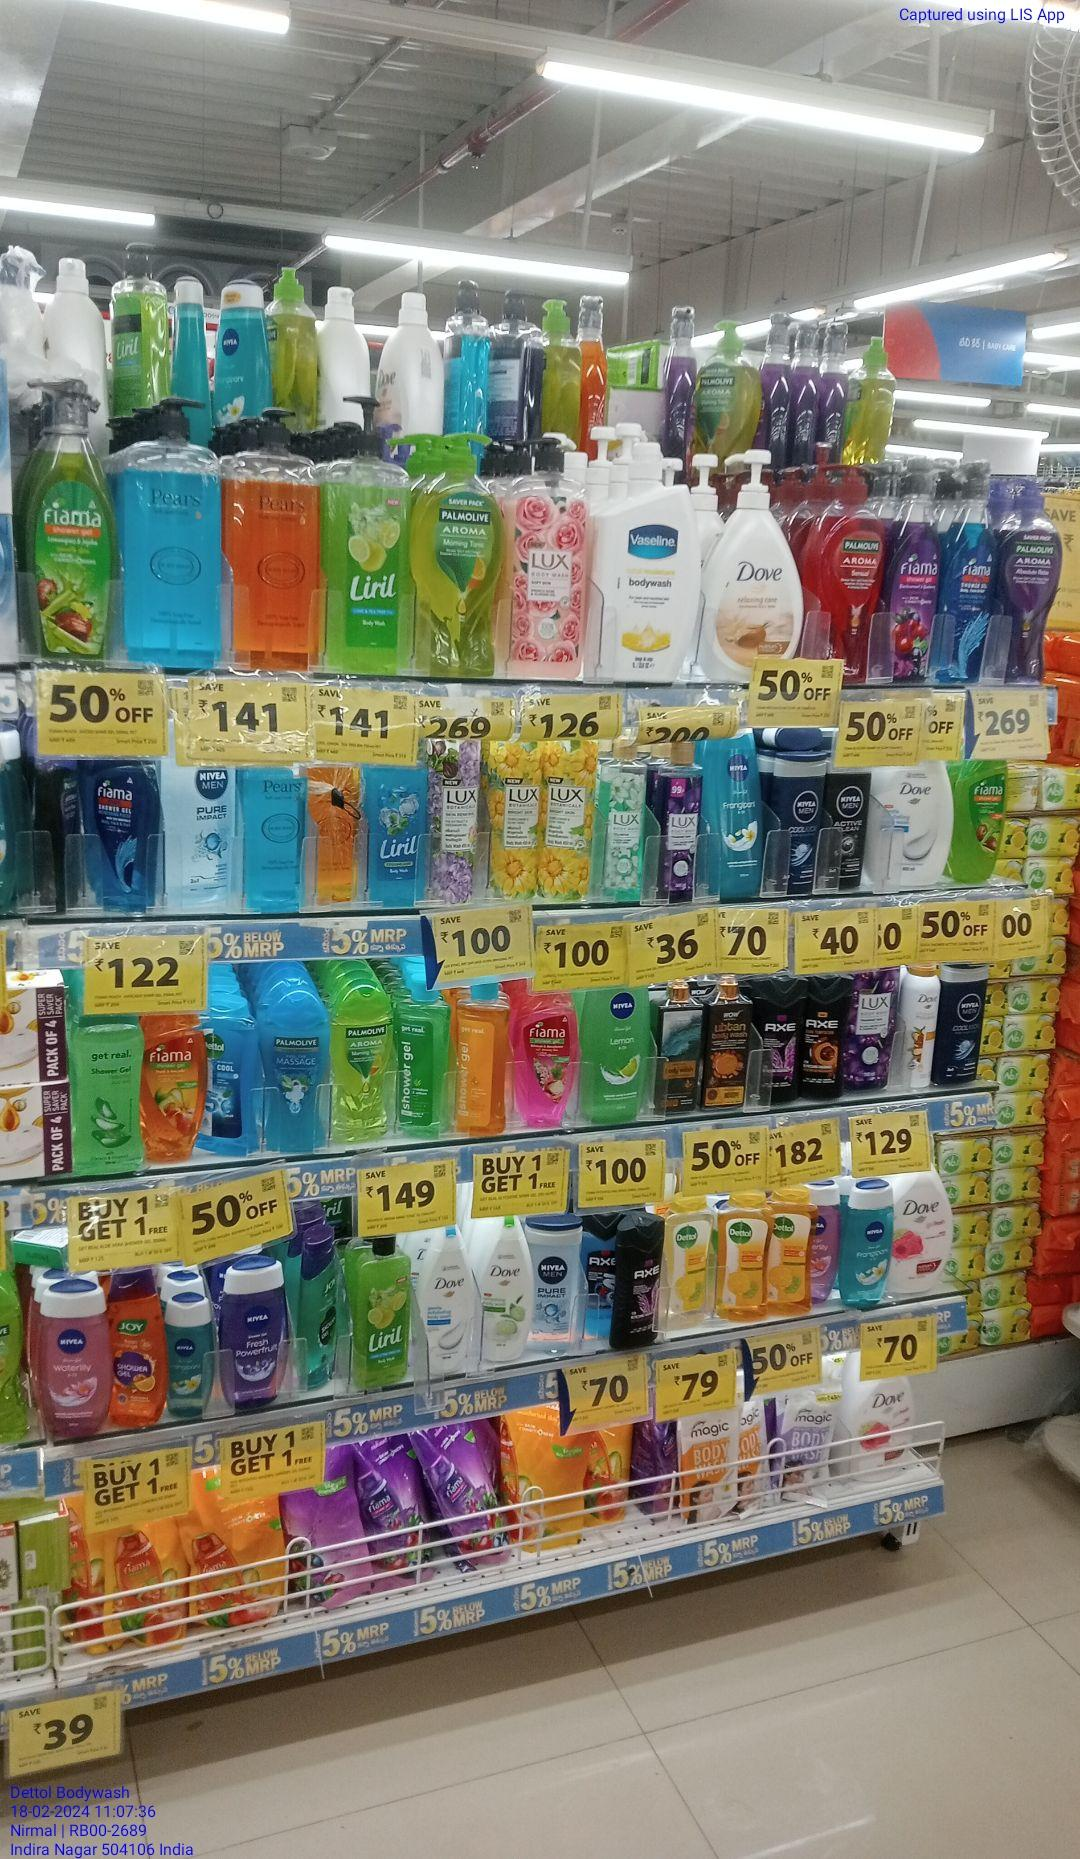Dettol_Bodywash_Cool: (202, 998, 265, 1165)
Dettol_Bodywash_Refresh: (716, 1194, 766, 1325), (768, 1187, 814, 1314)
Dove_Gentle_Exfoliating_Body_Wash_250ML: (424, 1228, 478, 1379), (481, 1212, 532, 1364)
Fiama_Shower_Gel_Lemongrass_and_Jojoba_250ML: (953, 757, 1002, 883)
Fiama_Shower_Gel_Patchouli_and_Macadamia_250ML: (513, 983, 576, 1130)
Fiama_Shower_Gel_Peach_and_Avocado_250ML: (144, 1012, 197, 1158)
Joy_Shower_Gel_Mandarin_and_Lemongrass_250ML: (108, 1270, 163, 1427)
Liril_Cooling_Mint_Body_Wash_250ML: (364, 766, 429, 910)
Liril_Lime_and_Tea_Tree_Oil_Body_Wash_250ML: (352, 1235, 410, 1388)
Lux_Black_Orchid_Scent_and_Juniper_Oil_Body_Wash_245ML: (651, 739, 697, 899)
Lux_Body_Wash_Skin_Detox_Freesia_Scent_and_Alove_Vera_245ML: (595, 737, 648, 905)
Nivea_Shower_Gel_Frangipani_and_Oil_250ML: (703, 734, 762, 903), (212, 282, 271, 427), (842, 1180, 896, 1309)
Nivea_Shower_Gel_Lemon_and_Oil_250ML: (581, 989, 649, 1122)
Nivea_Shower_Gel_Waterlily_and_Oil_250ML: (31, 1279, 105, 1435)
Palmolive_Aroma_Moments_Feel_The_Massage_Shower_Gel_250ML: (267, 990, 329, 1152)
Palmolive_Aroma_Morning_Tonic_Shower_Gel_250ML: (332, 983, 388, 1140)
Pears_Pure_Glycerin_and_Mint_Extracts_Body_Wash_250ML: (238, 764, 302, 917)
